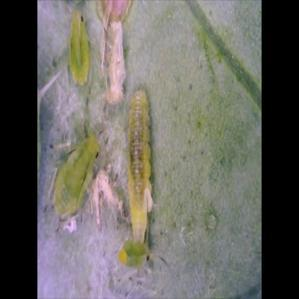Green peach aphid: (107, 80, 174, 273), (41, 115, 104, 232), (56, 6, 99, 89)
